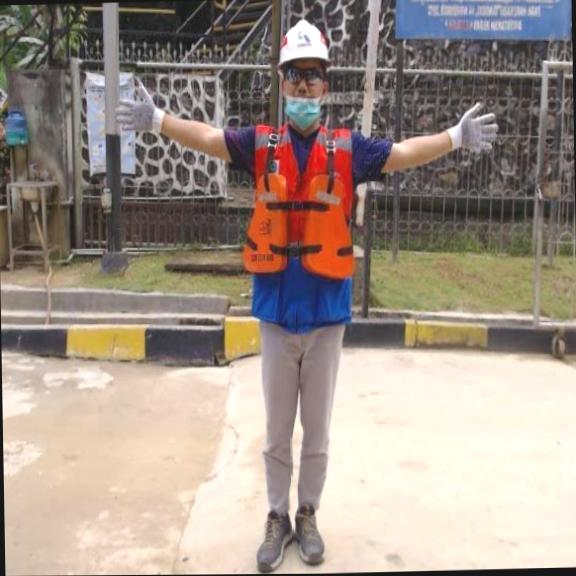safety_vest: (242, 172, 356, 283)
